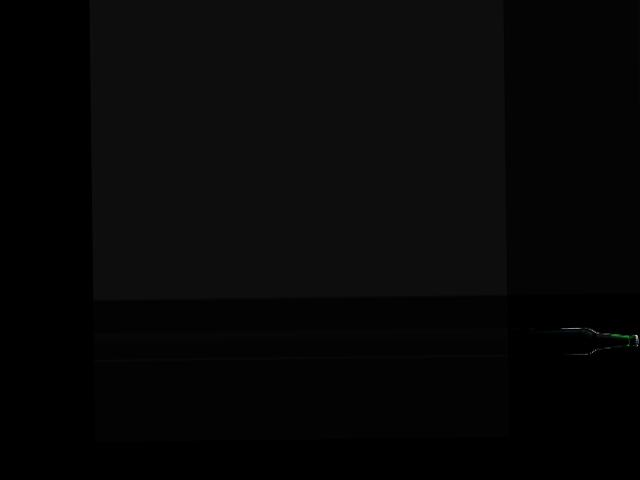beer: (526, 325, 639, 355)
